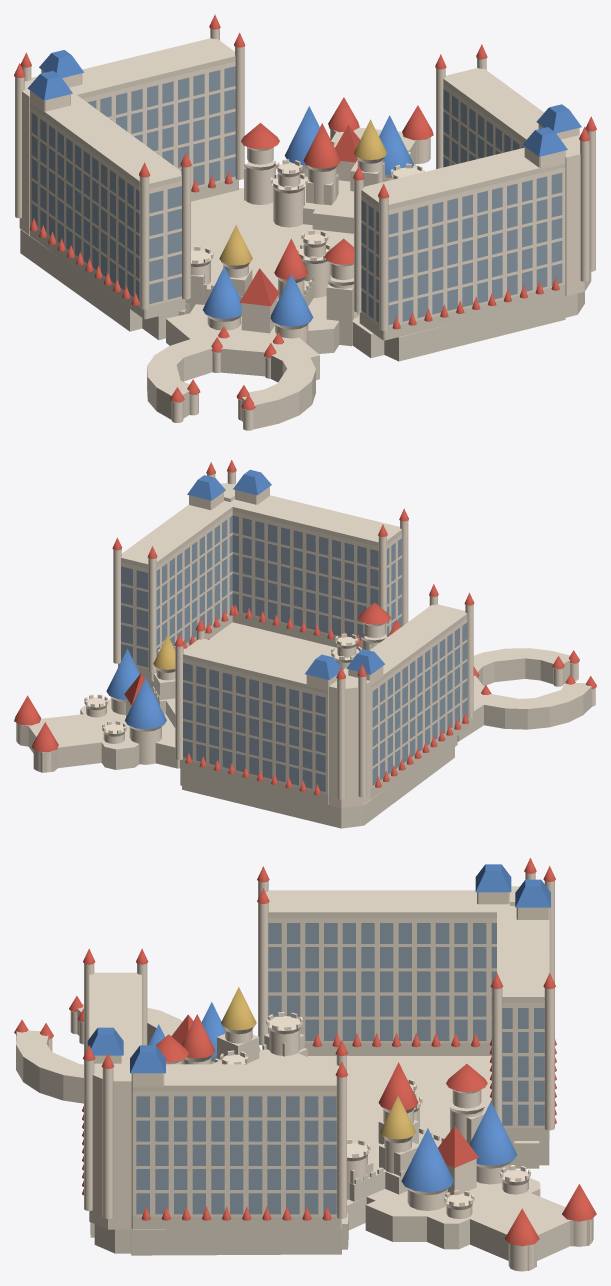
File: detail.glb
3 views of the same model, one above another, from view 1: azimuth 30°, elevation 25°; view 2: azimuth 150°, elevation 25°; view 3: azimuth 270°, elevation 25° (orthographic). The views are drawn at different scales.
Visible parts, largest first — view 1: excalibur-hotel-casino; view 2: excalibur-hotel-casino; view 3: excalibur-hotel-casino.
Boxes of the visible parts, x1=… form: excalibur-hotel-casino: x1=14, y1=14, x2=596, y2=430; excalibur-hotel-casino: x1=14, y1=460, x2=596, y2=828; excalibur-hotel-casino: x1=14, y1=858, x2=596, y2=1271.
Size of the model in its own units: 246 by 95 by 248.
